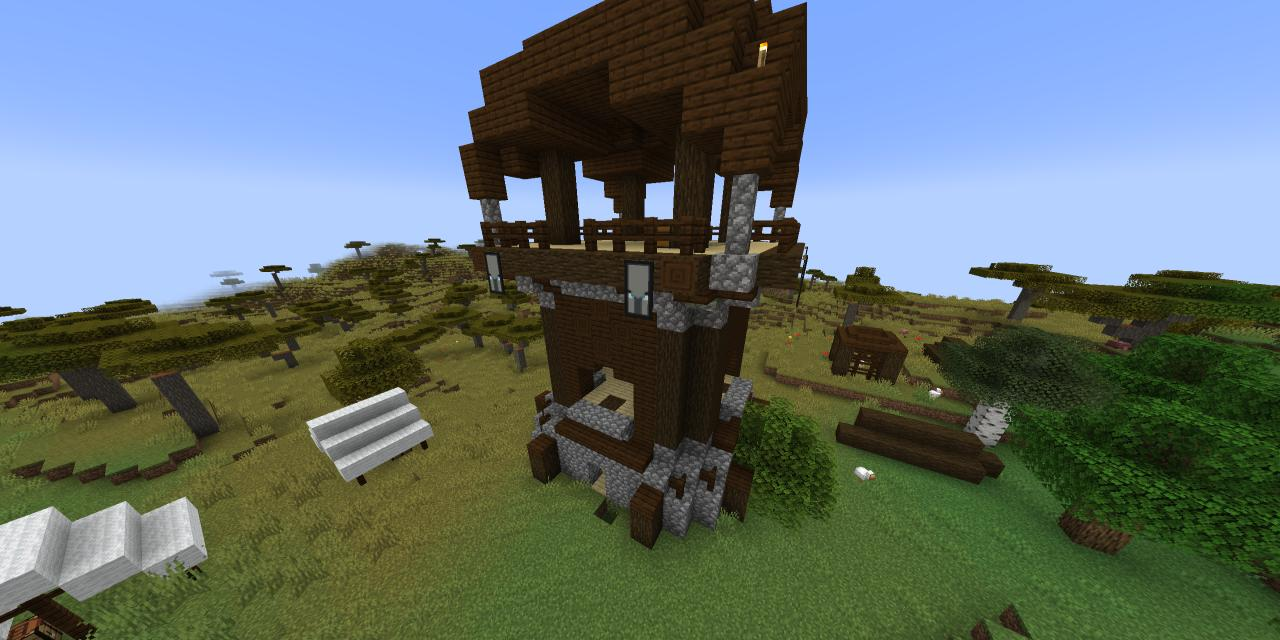pillager outpost: (450, 0, 826, 557)
